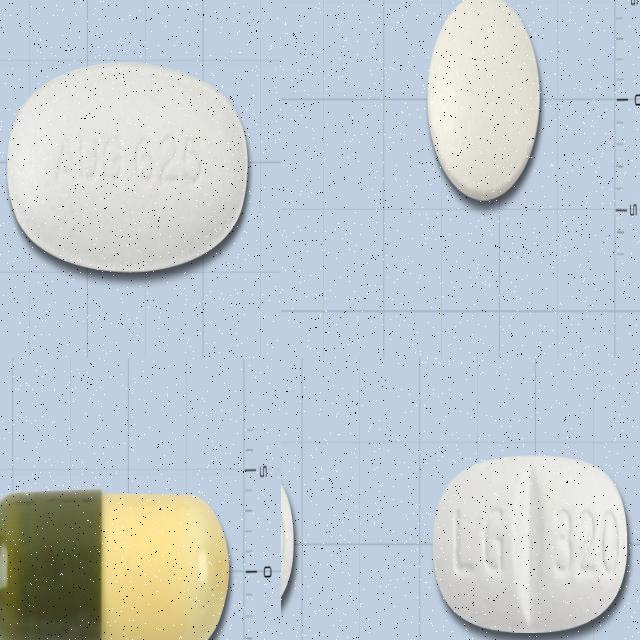Factive: (432, 453, 628, 634)
Ilsung Augmentin: (7, 61, 249, 274)
Kymoxin Cap-500mg: (0, 491, 230, 640)
Unifixime Cap: (427, 0, 540, 203)
